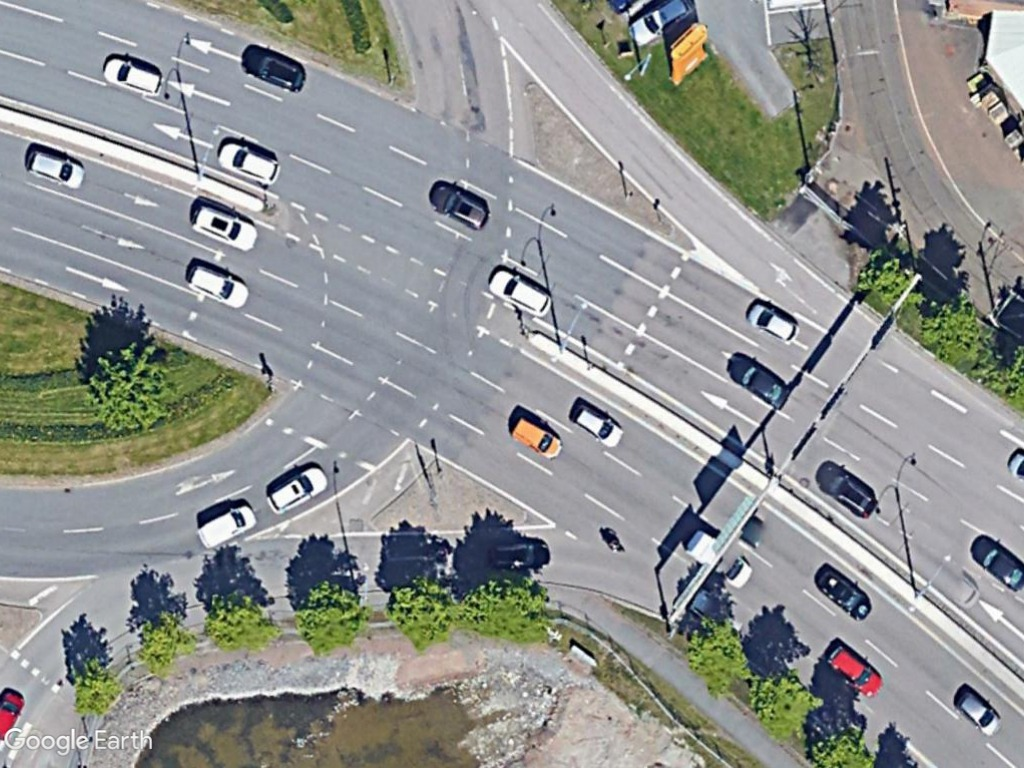car: (183, 200, 267, 256), (214, 132, 287, 192), (260, 461, 335, 517), (425, 177, 497, 235), (813, 564, 880, 626), (239, 43, 314, 98), (485, 265, 557, 321), (816, 463, 881, 524), (183, 259, 254, 314), (727, 350, 792, 408), (824, 641, 885, 701), (99, 55, 171, 104), (194, 498, 261, 550), (966, 535, 1024, 595), (743, 295, 804, 347), (22, 146, 89, 192), (568, 398, 629, 447), (951, 684, 1005, 739)
van: (506, 411, 568, 463)
